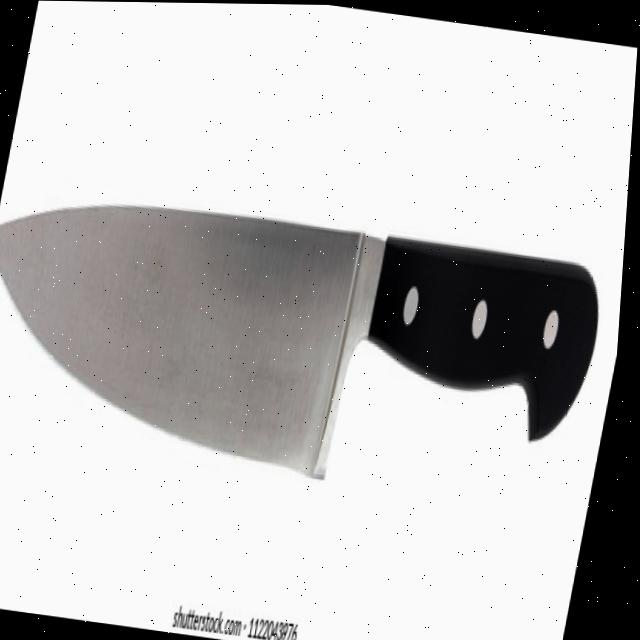knife: (0, 172, 618, 514)
